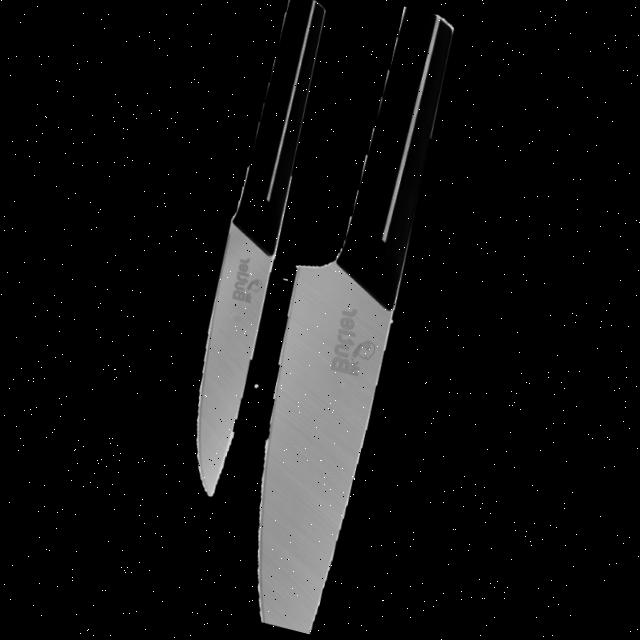knife: (184, 0, 501, 638), (147, 0, 361, 509)
